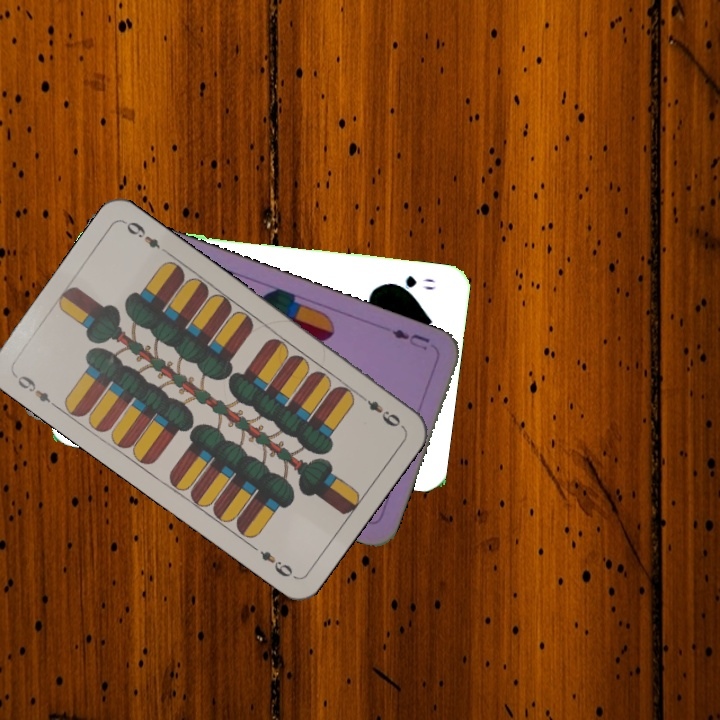E9: (10, 370, 61, 411), (354, 390, 405, 430)
EU: (387, 325, 433, 349)
GO: (384, 271, 439, 294)
